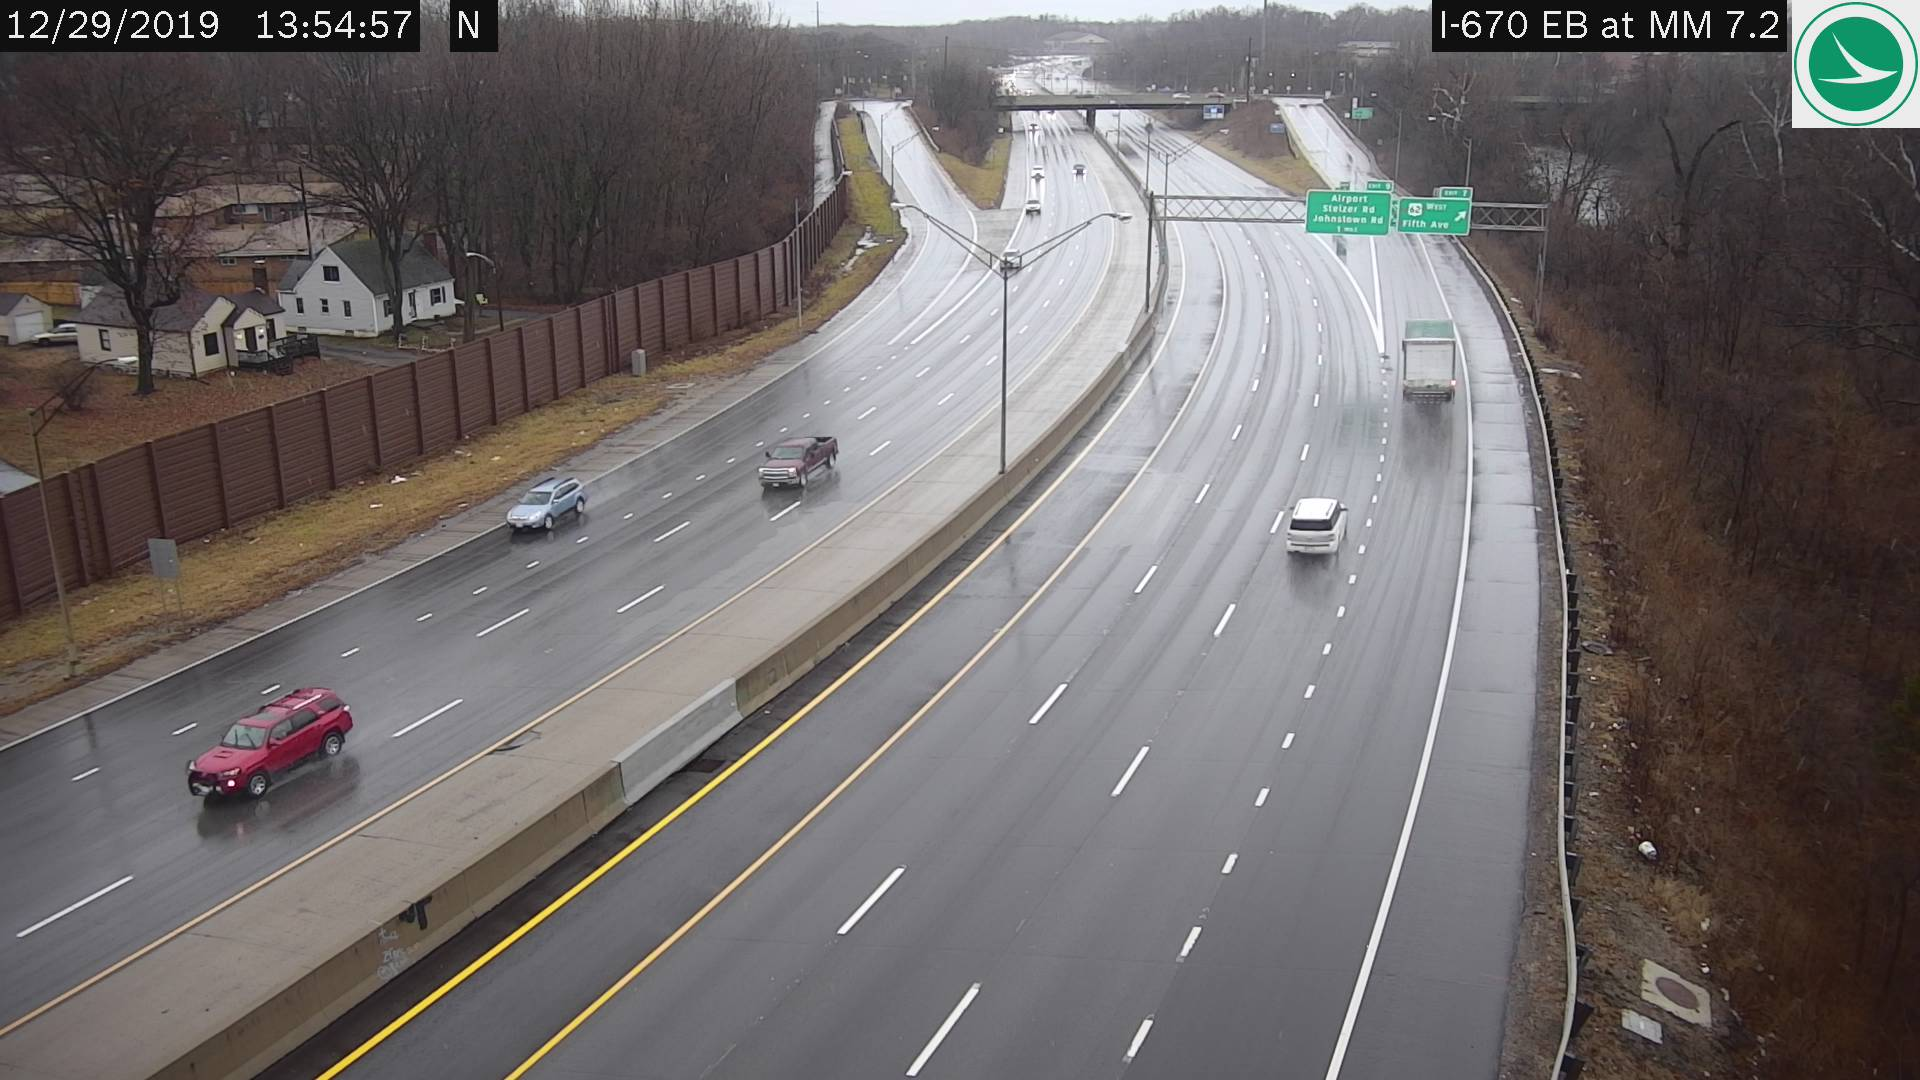car: (182, 684, 349, 800), (758, 433, 837, 500), (506, 476, 582, 531), (1402, 324, 1455, 396), (1290, 496, 1346, 556), (1022, 193, 1042, 212)
